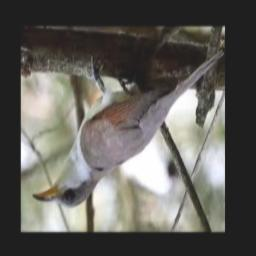Cuckoo: (33, 50, 224, 208)
